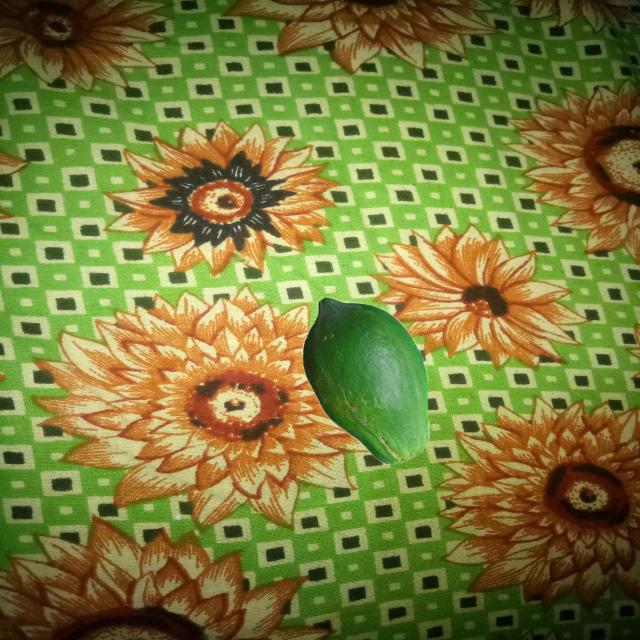Pepaya unrippen: (292, 291, 442, 477)
